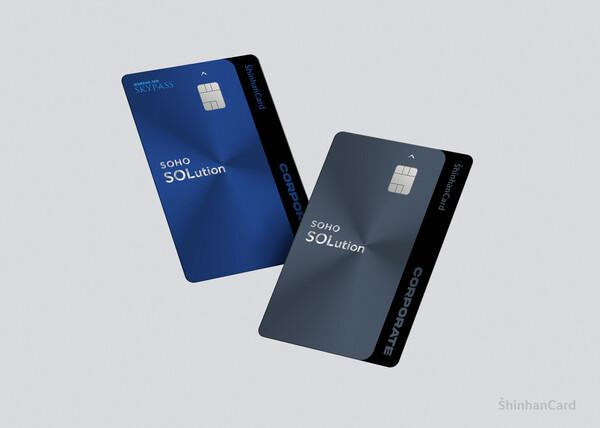Credit_card: (259, 131, 476, 369), (121, 53, 307, 282)
